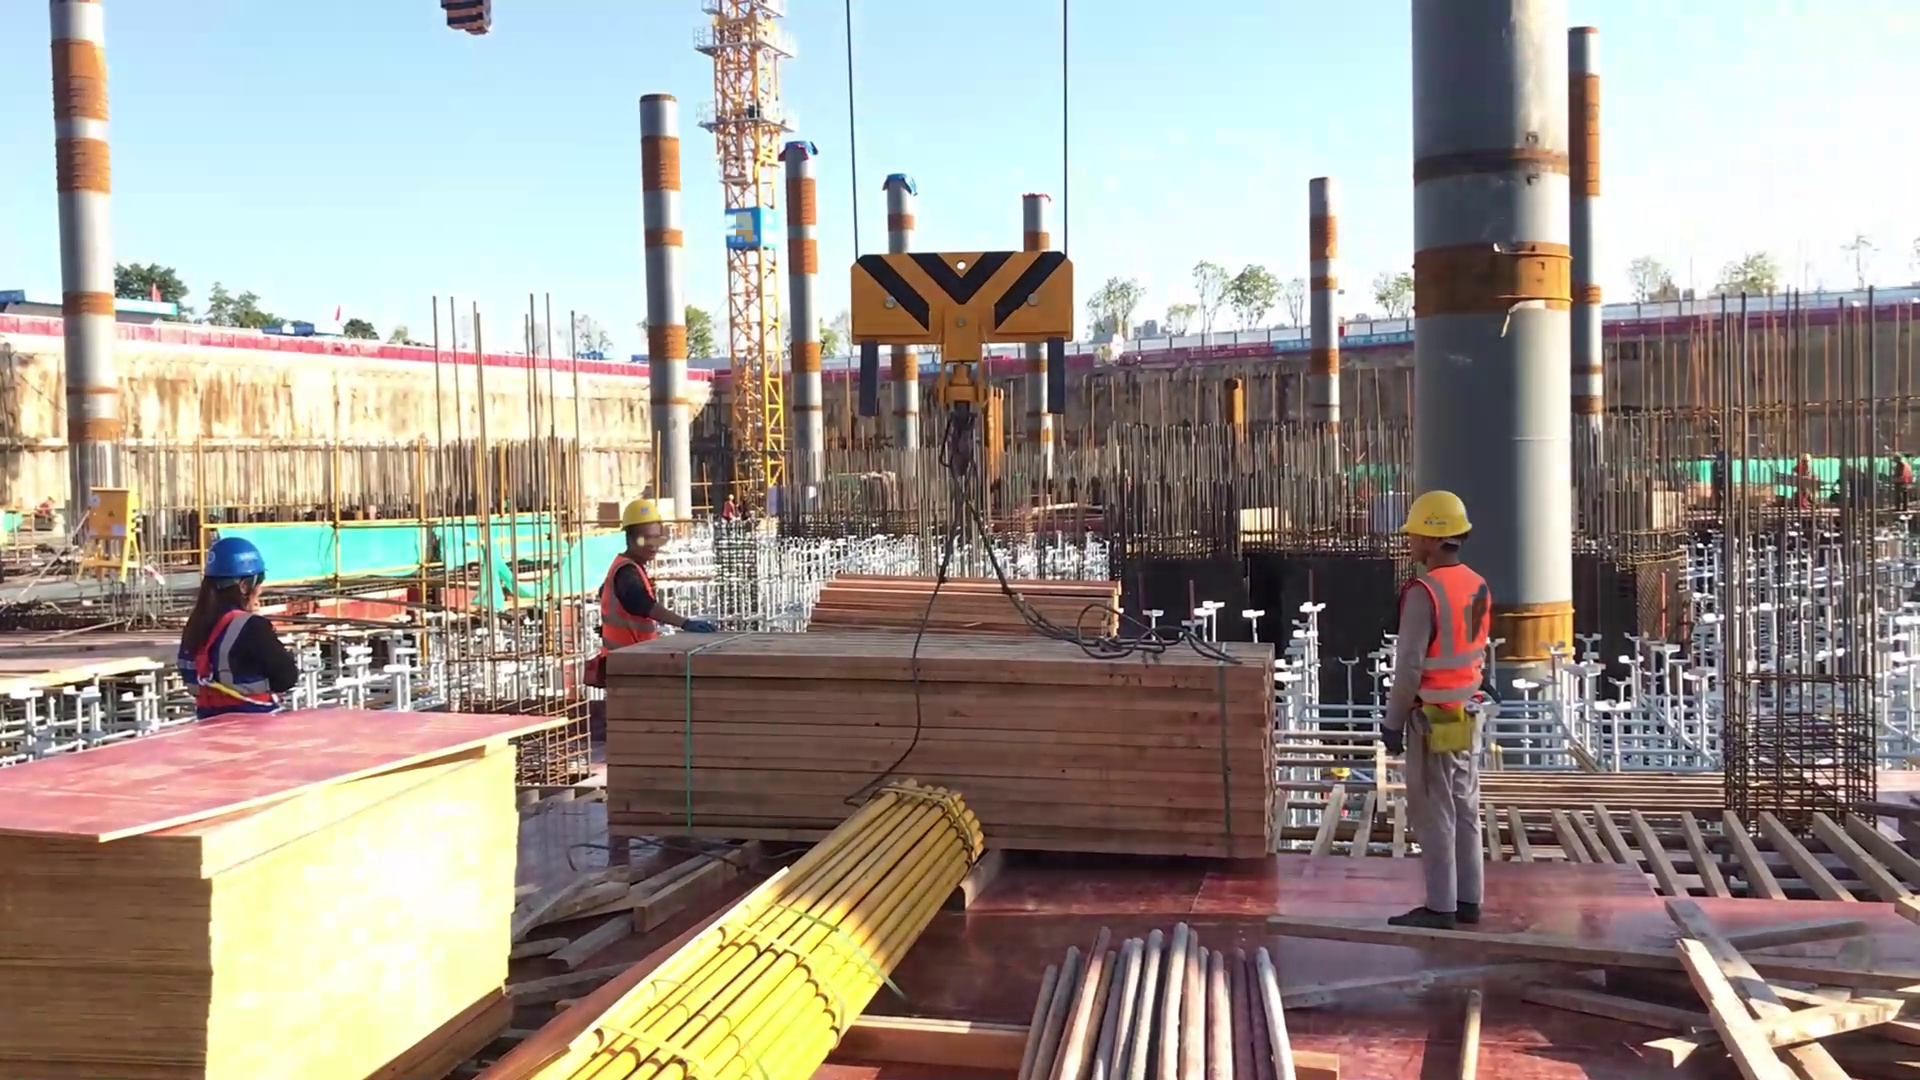board: (1, 703, 570, 1078)
ebox: (74, 470, 147, 577)
helmet: (196, 523, 273, 596), (1397, 480, 1482, 545), (612, 491, 679, 534)
hook: (821, 222, 1083, 474)
person: (1377, 469, 1508, 929), (175, 520, 309, 716), (588, 492, 706, 647)
rebar: (1008, 926, 1300, 1080)
vest: (173, 593, 312, 720), (1398, 560, 1497, 711), (596, 545, 686, 654)
wood: (588, 630, 1306, 856)
